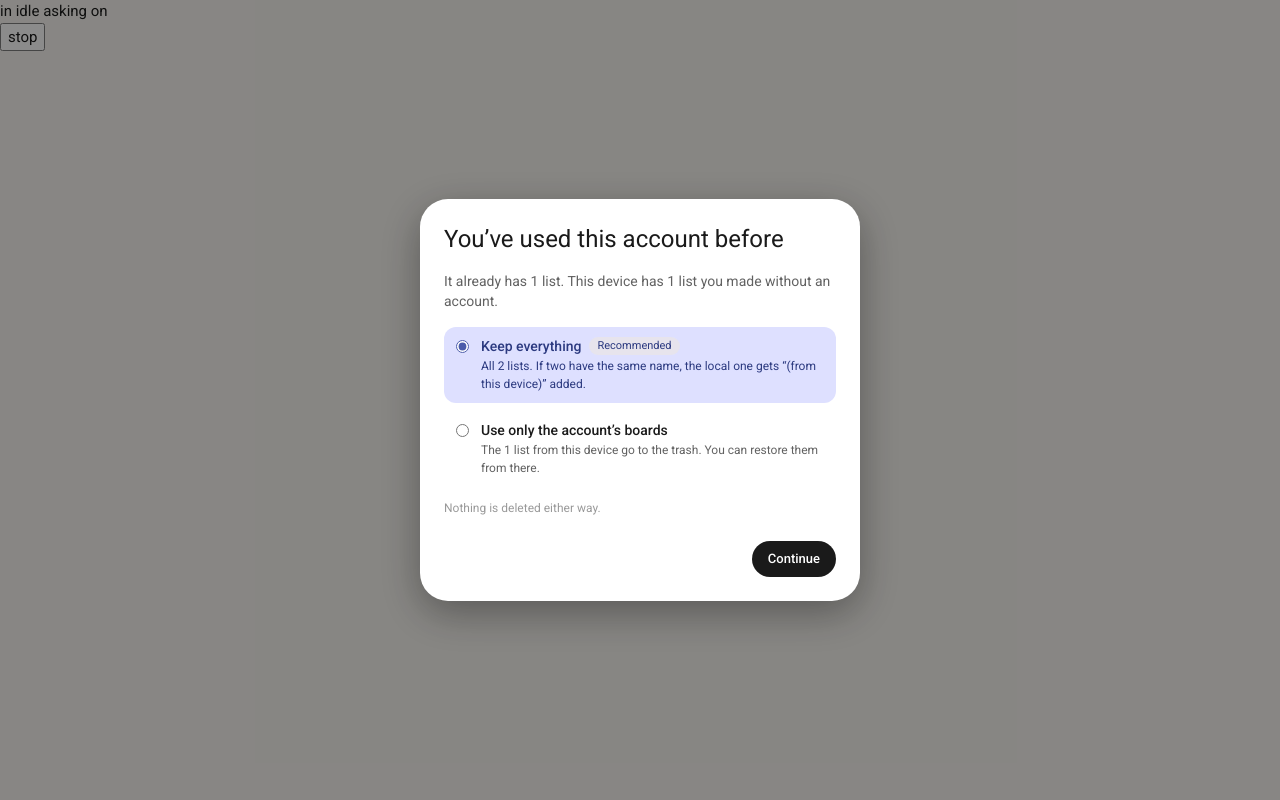
BoardSyncProvider › asks when both the account and this device hold boards, and keeps everything on request
expect the dialog "You’ve used this account before" shows "It already has 1 list. This device has 1 list": met, box [444, 273, 830, 309]
Click the button "Continue" at (794, 559), box [752, 541, 836, 577]
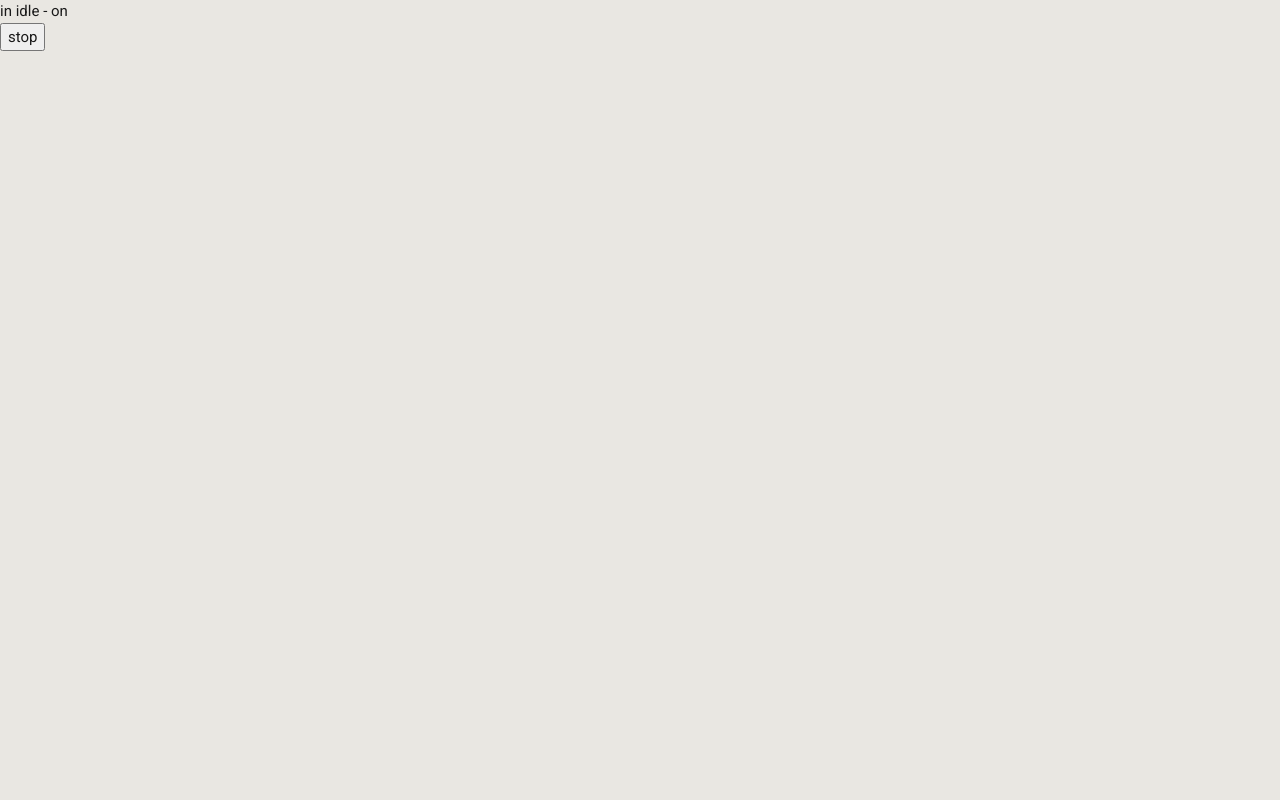
expect the dialog is gone: met
